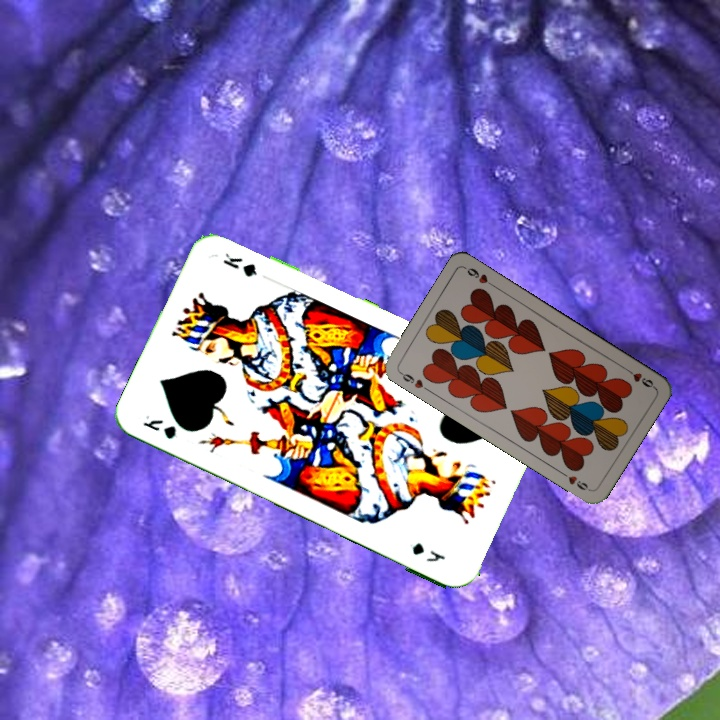GK: (138, 411, 179, 442)
H9: (621, 364, 657, 390), (396, 368, 432, 394)
